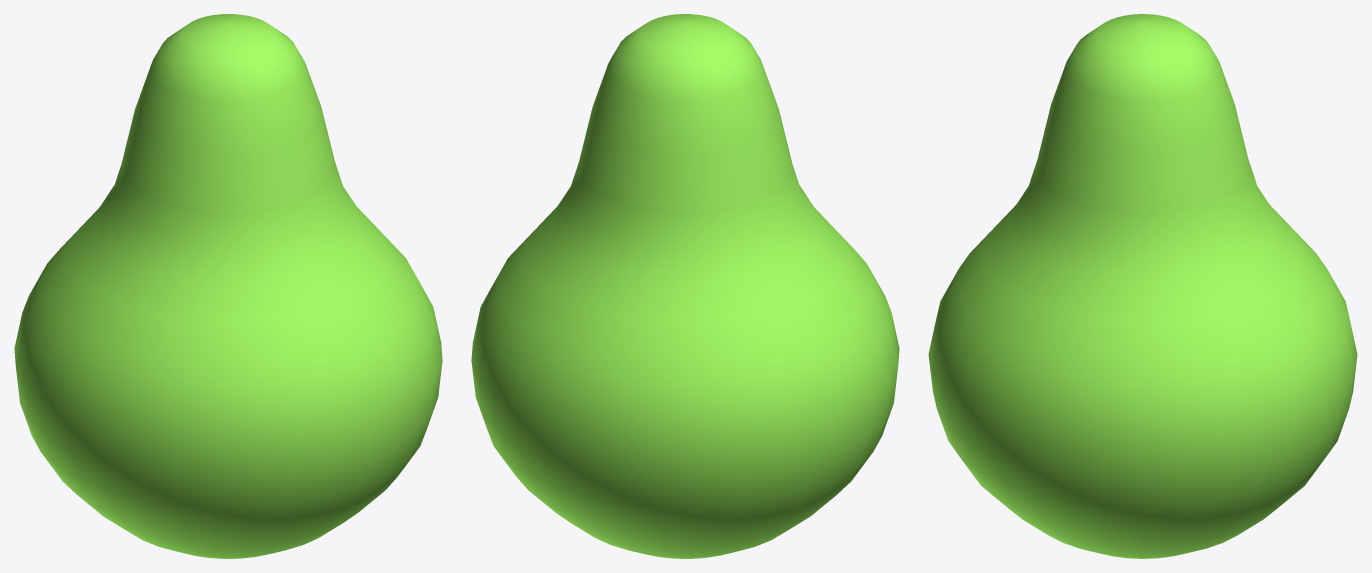
The model's file is Whole Pear.FBX.
3 renders of one model, left to right at view 1: azimuth 30°, elevation 25°; view 2: azimuth 150°, elevation 25°; view 3: azimuth 270°, elevation 25°, orthographic.
Visible parts, largest first — view 1: Sphere001; view 2: Sphere001; view 3: Sphere001.
Part boxes in pixels (box(x1,y1,x2,y2)): Sphere001: box(14, 14, 442, 558); Sphere001: box(471, 14, 899, 558); Sphere001: box(928, 14, 1357, 558).
Bounding box in the file's own units: 79.87 × 106 × 79.87.
